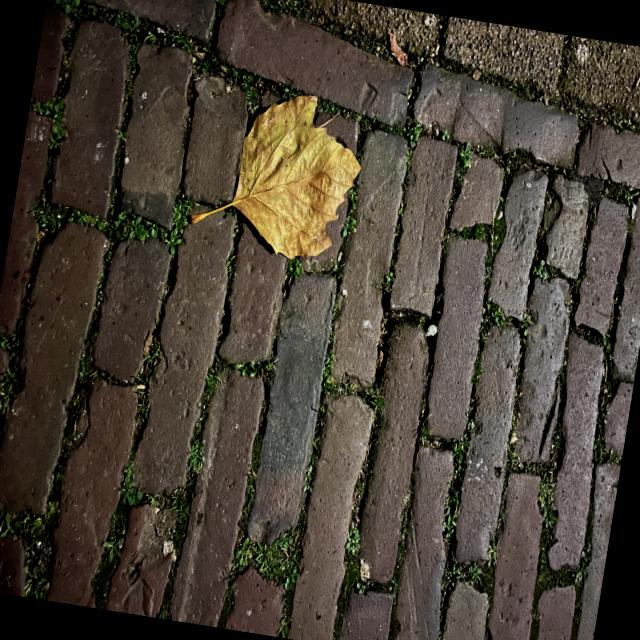leaves: (218, 88, 368, 264)
pavement: (0, 0, 640, 640)
weedling: (235, 373, 385, 622), (538, 467, 595, 598)
